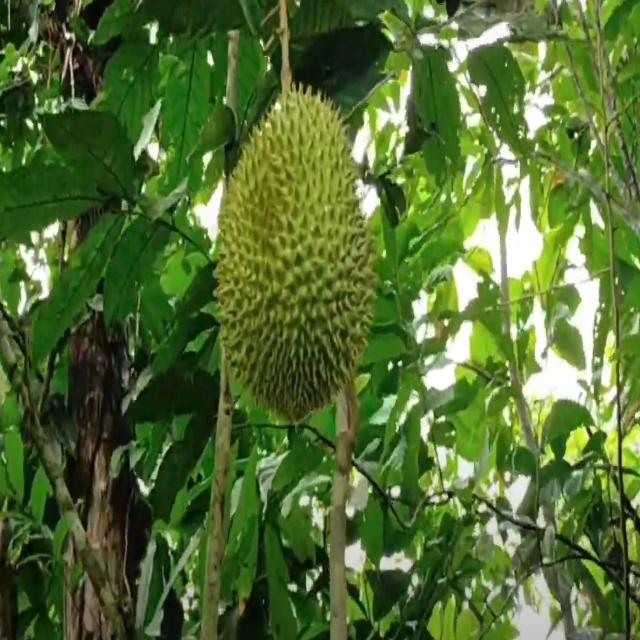immature: (214, 80, 372, 422)
